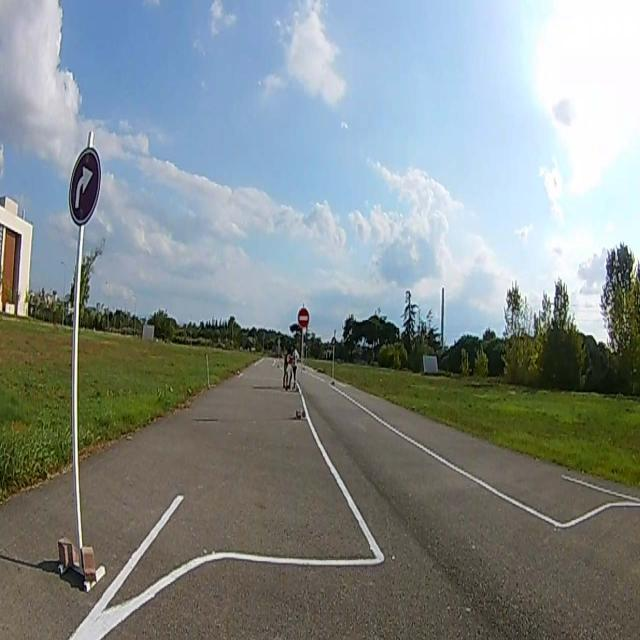girisyok: (298, 309, 310, 328)
sag: (72, 149, 101, 223)
